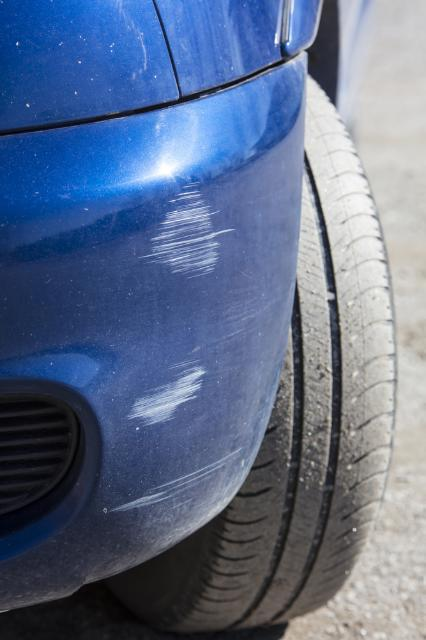scratch: (107, 438, 246, 513), (143, 174, 235, 280), (127, 344, 208, 428)
